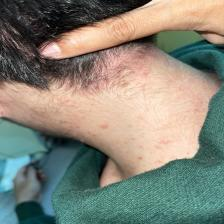DA: (95, 50, 154, 98), (52, 98, 110, 144), (165, 66, 207, 113), (122, 126, 174, 160)
